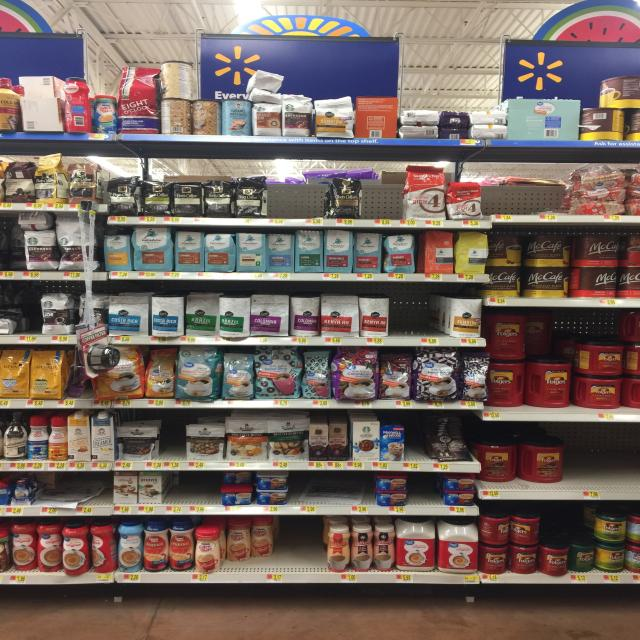void: (570, 425, 635, 491), (488, 165, 560, 215), (274, 162, 324, 218), (277, 520, 323, 574), (294, 474, 373, 505), (36, 474, 110, 506), (393, 290, 443, 336), (366, 162, 401, 216), (0, 292, 37, 341), (168, 475, 216, 507), (161, 414, 182, 461), (413, 477, 440, 507)
